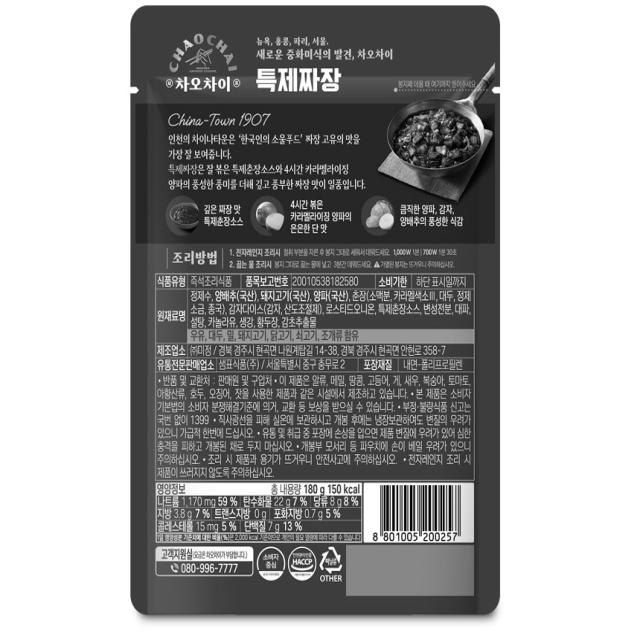Nutrition Label: (154, 481, 365, 547)
